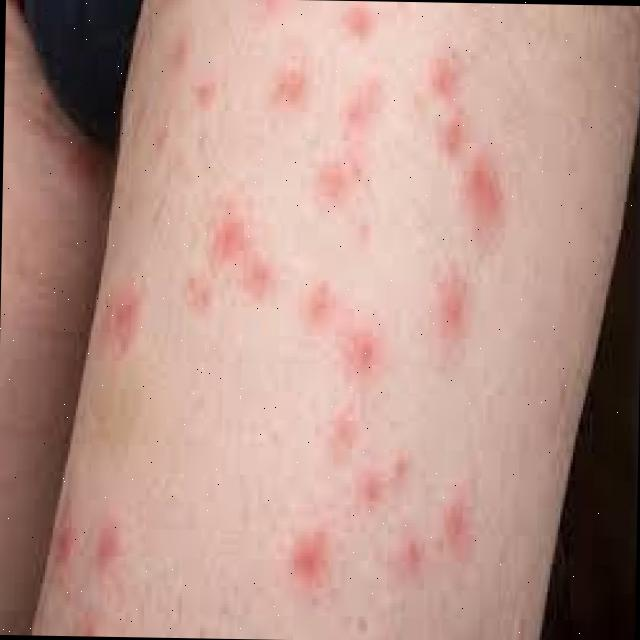kan emici bocekler: (465, 155, 505, 270), (353, 312, 398, 396), (339, 83, 401, 142), (288, 522, 338, 591), (433, 278, 477, 353), (99, 289, 145, 356), (444, 499, 480, 571), (95, 522, 133, 588), (434, 117, 472, 175), (163, 33, 203, 88), (306, 279, 343, 338), (268, 51, 303, 112), (334, 3, 380, 45), (215, 214, 248, 271), (311, 145, 339, 212), (396, 520, 429, 576), (422, 56, 459, 103), (50, 519, 81, 568), (246, 257, 273, 310), (255, 1, 306, 29), (357, 460, 383, 513), (353, 207, 383, 251), (337, 404, 360, 454), (194, 74, 216, 124), (391, 447, 411, 484)
